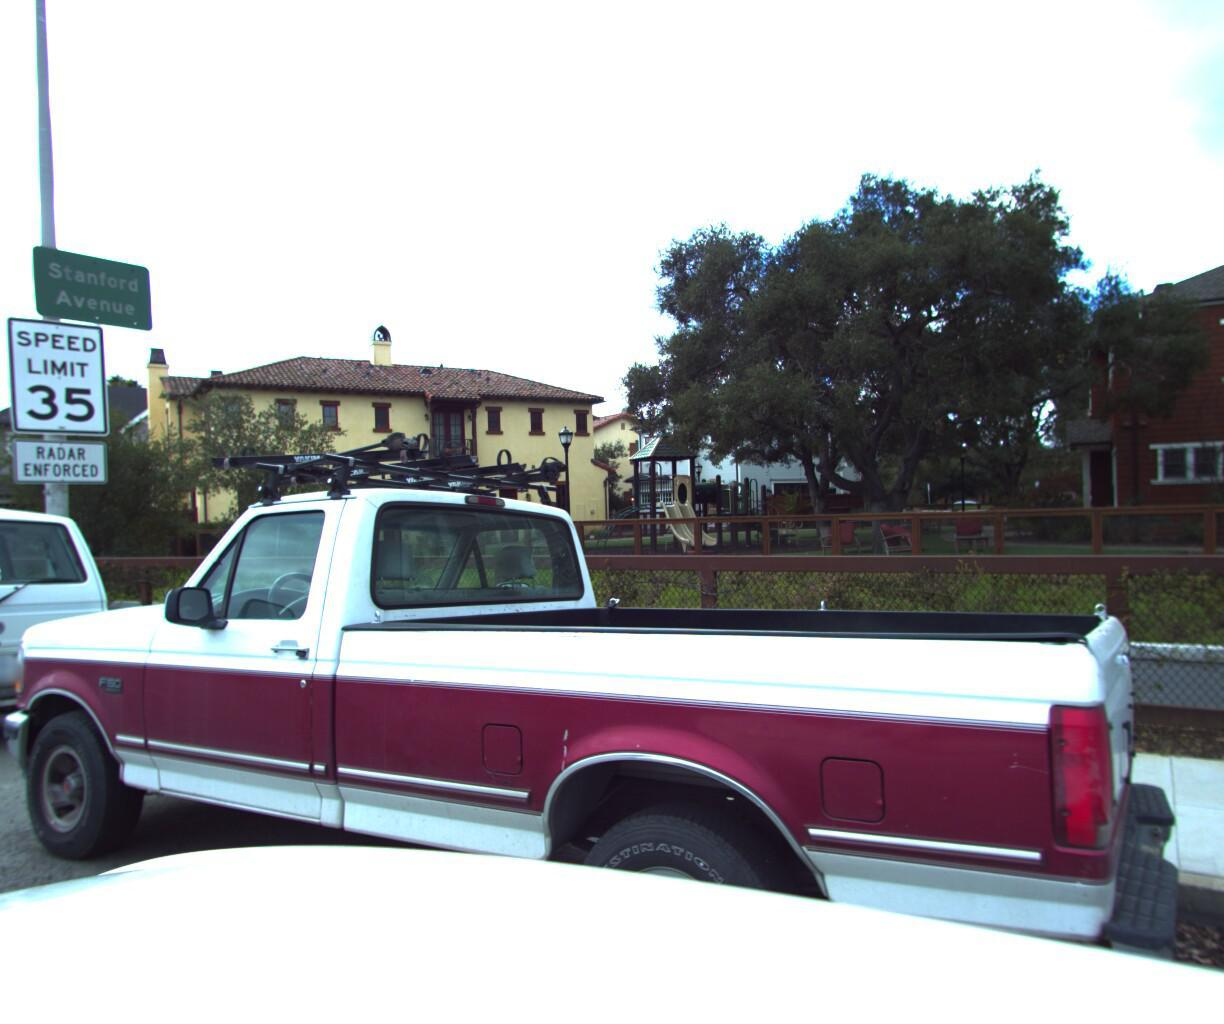car: (0, 391, 1191, 1024), (0, 491, 123, 785)
